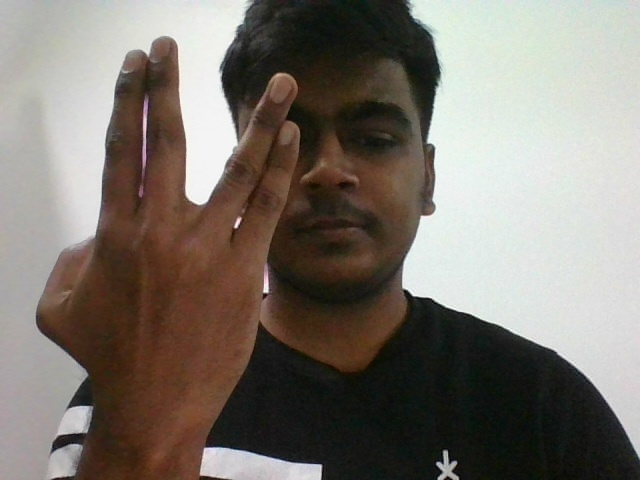livelong: (48, 38, 299, 366)
